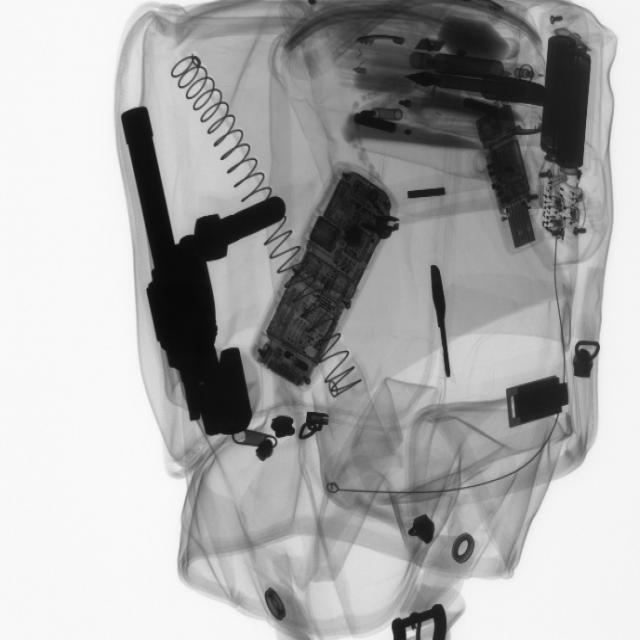GUN: (117, 101, 248, 450)
